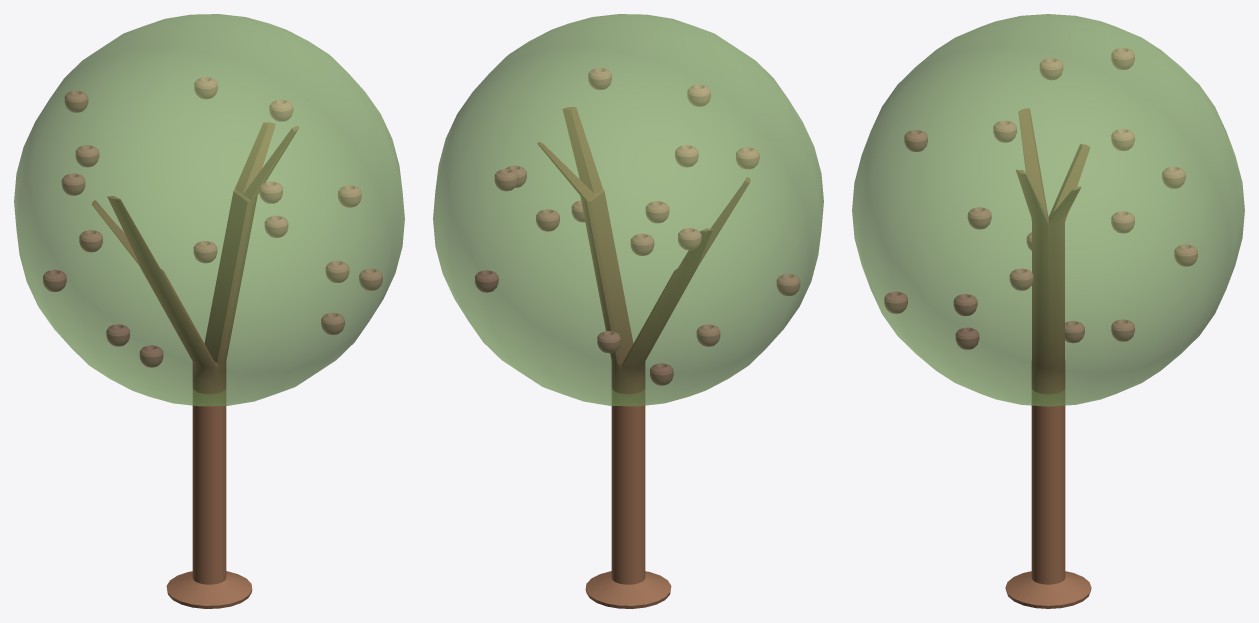
Rendered from tree_normal.fbx.
The picture shows the model from 3 angles, left to right: view 1: azimuth 30°, elevation 25°; view 2: azimuth 150°, elevation 25°; view 3: azimuth 270°, elevation 25°; orthographic projection.
Parts seen in each view (by area): view 1: pSphere4, pCylinder1; view 2: pSphere4, pCylinder1; view 3: pSphere4, pCylinder1.
Part boxes in pixels (left/top/right/bottom): pSphere4: left=14, top=14, right=404, bottom=406; pCylinder1: left=92, top=122, right=298, bottom=608; pSphere4: left=433, top=14, right=823, bottom=406; pCylinder1: left=537, top=107, right=750, bottom=608; pSphere4: left=852, top=14, right=1244, bottom=406; pCylinder1: left=1005, top=108, right=1091, bottom=608.
Bounding box in the file's own units: 22.71 × 35.63 × 22.71.
